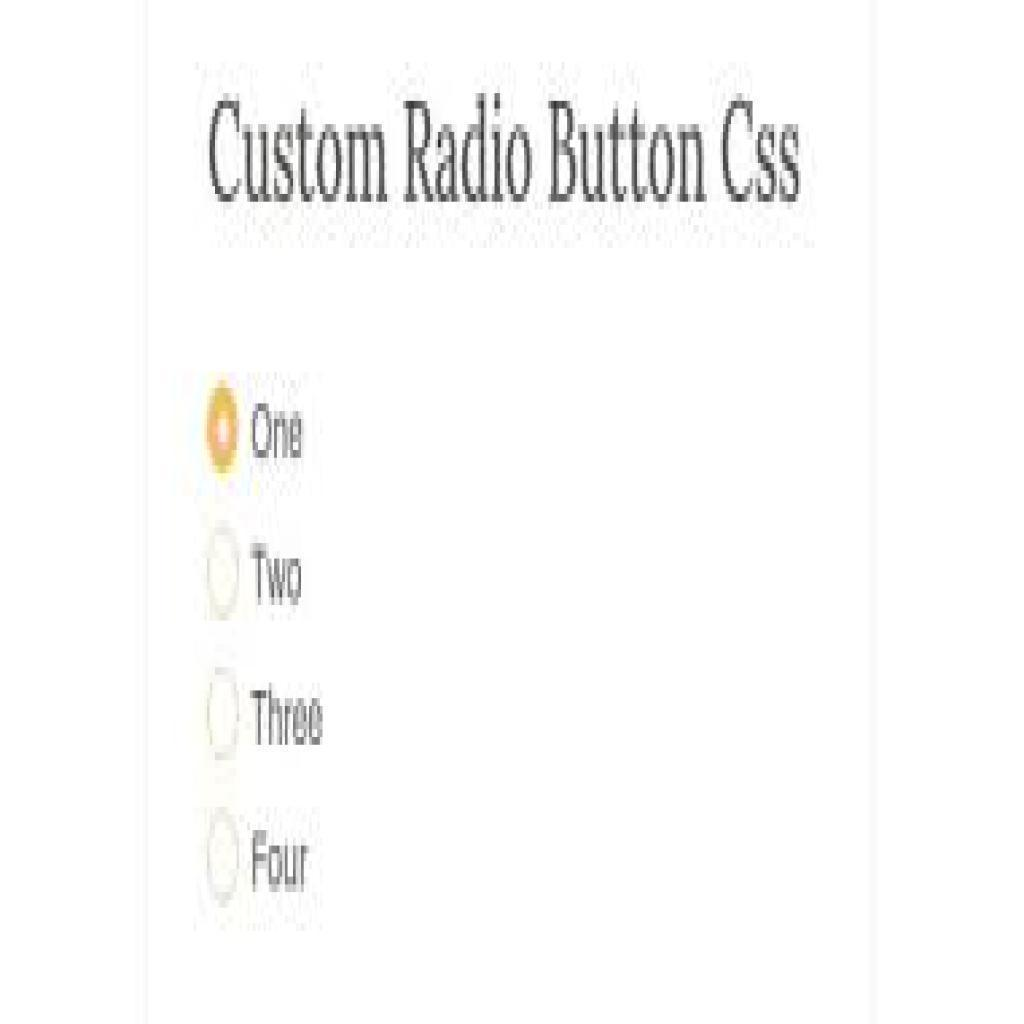radio: (203, 787, 243, 911), (204, 512, 243, 629), (204, 376, 244, 484), (206, 657, 243, 773)
